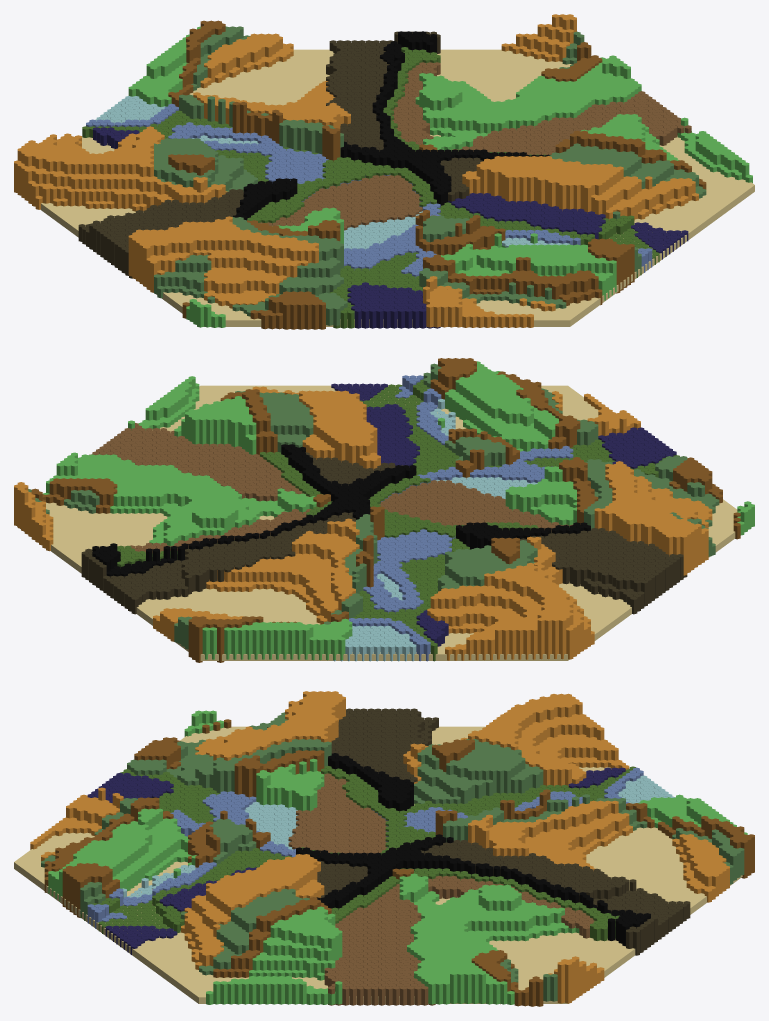
File: 0018_tile_1010110.fbx
3 renders of one model, top to bottom at view 1: azimuth 30°, elevation 25°; view 2: azimuth 150°, elevation 25°; view 3: azimuth 270°, elevation 25°, orthographic.
Visible parts, largest first — view 1: Plane; view 2: Plane; view 3: Plane.
Boxes of the visible parts, left/top/right/bottom form: Plane: left=14, top=14, right=754, bottom=329; Plane: left=14, top=358, right=754, bottom=662; Plane: left=14, top=691, right=754, bottom=1006.
Size of the model in its own units: 1008 by 80.65 by 1152.
